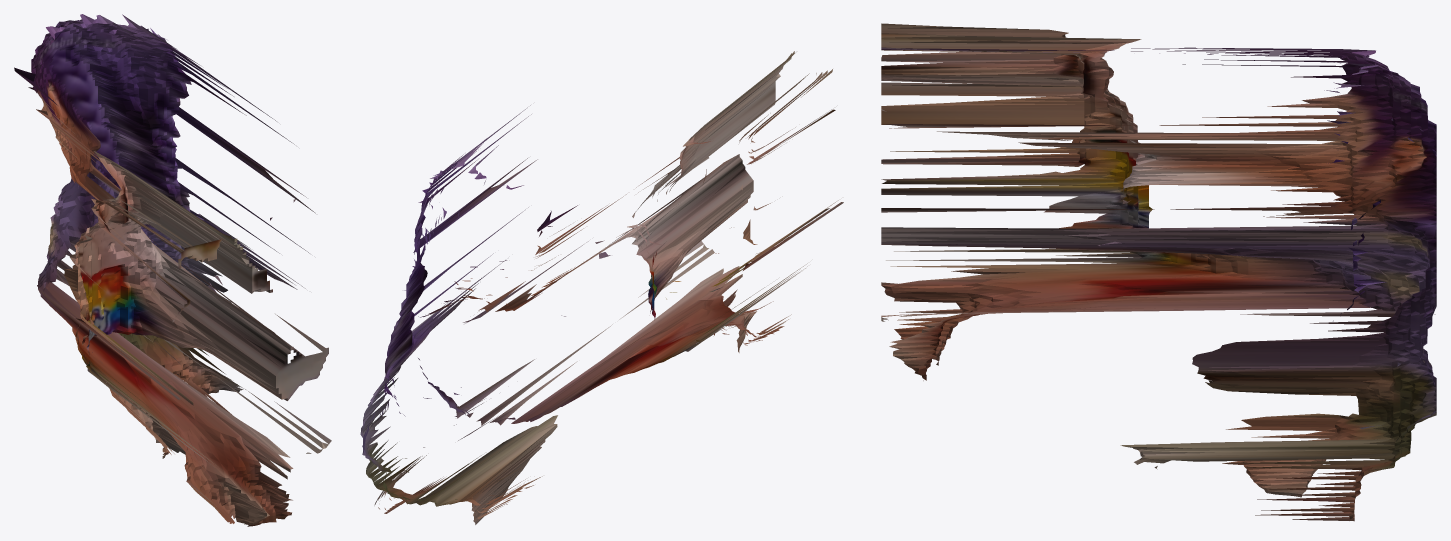
The model's file is frame_00275.glb.
3 views of the same model, side by side, from view 1: azimuth 30°, elevation 25°; view 2: azimuth 150°, elevation 25°; view 3: azimuth 270°, elevation 25° (orthographic). The views are drawn at different scales.
Parts seen in each view (by area): view 1: geometry_0; view 2: geometry_0; view 3: geometry_0.
Boxes of the visible parts, bbox=[...] form: geometry_0: bbox=[14, 14, 331, 526]; geometry_0: bbox=[360, 51, 843, 524]; geometry_0: bbox=[881, 23, 1436, 521].
Size of the model in its own units: 0.0961 by 0.1325 by 0.16.
1 material, 1 textured.
